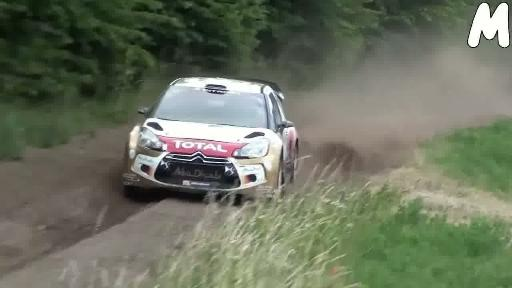CAR: (114, 57, 322, 205)
